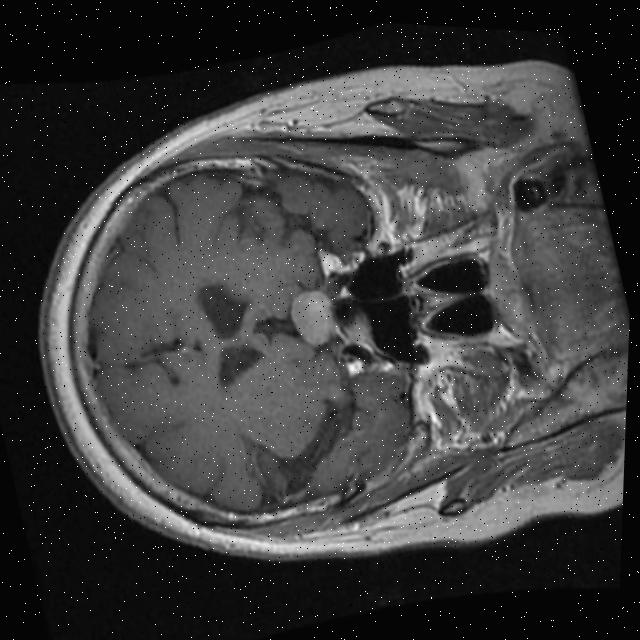Pituitary: (283, 284, 342, 353)
